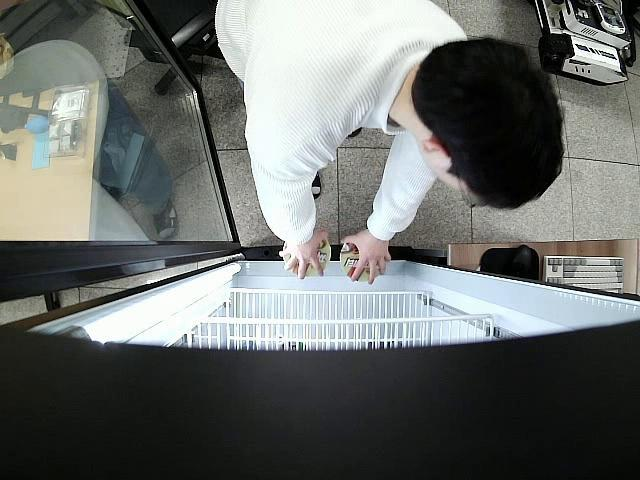03_chapagetti_L: (342, 236, 379, 282), (284, 243, 332, 276)
